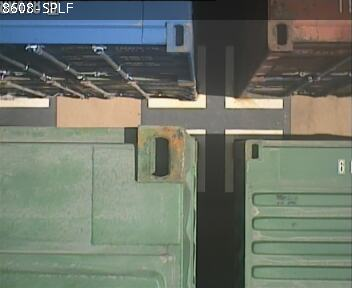groundmarker_1: (147, 46, 283, 108), (185, 128, 281, 190)
